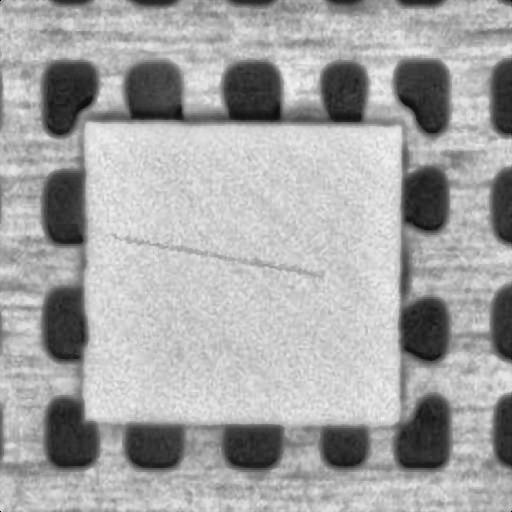DIE_CRACK: (150, 177, 424, 206)
